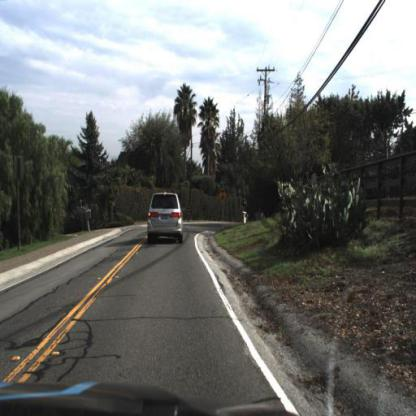car: (140, 187, 191, 252)
